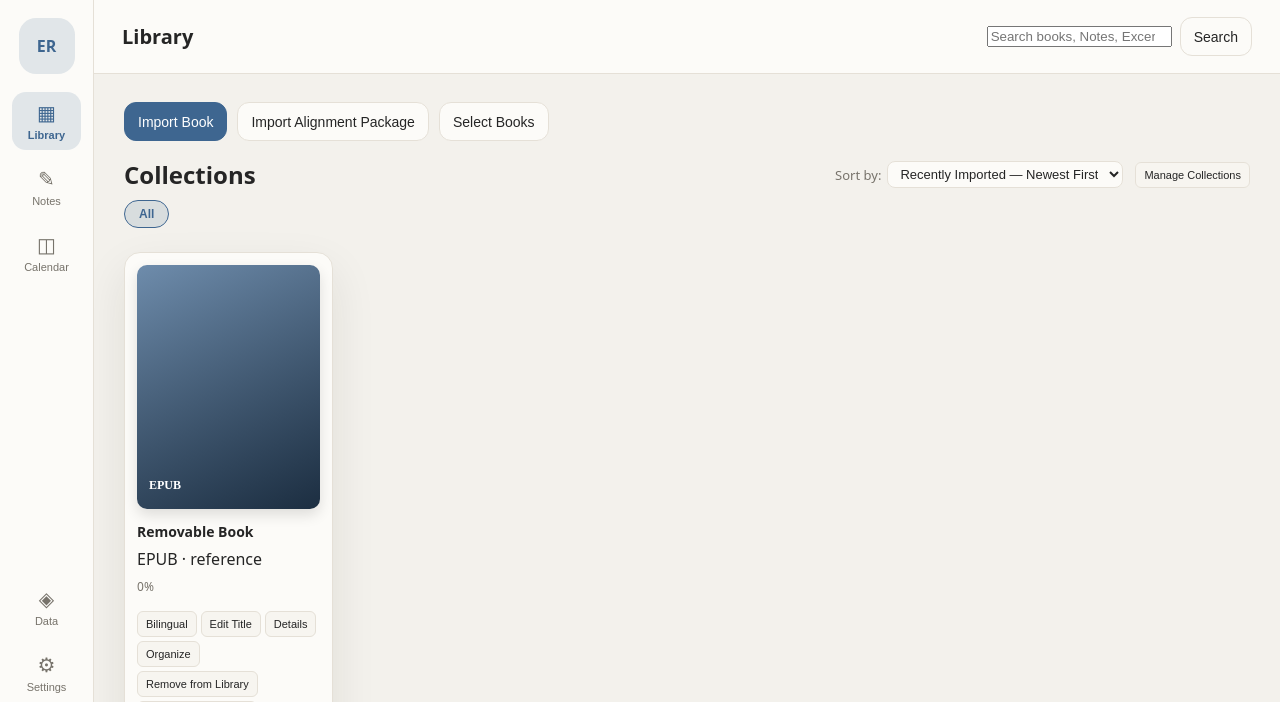
Test: Library › removes a book from the Library only after confirming via the in-app dialog
Expected: the button "Removable Book" is shown, [137,523,254,542]
Click the button "Remove from Library" at (197, 684), box [137,671,258,697]
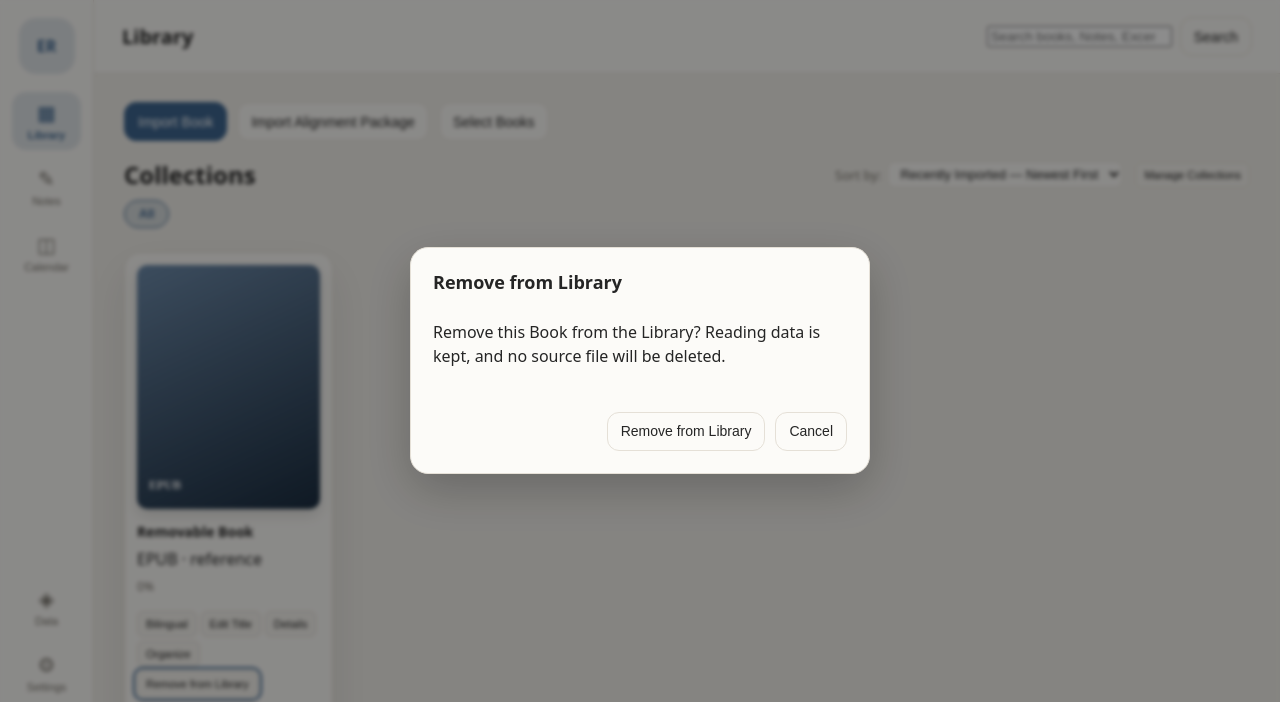
Result: the text "Reading data is kept" is shown at [433,320,820,366]
Click the button "Remove from Library" at (686, 431), box [607,412,765,450]
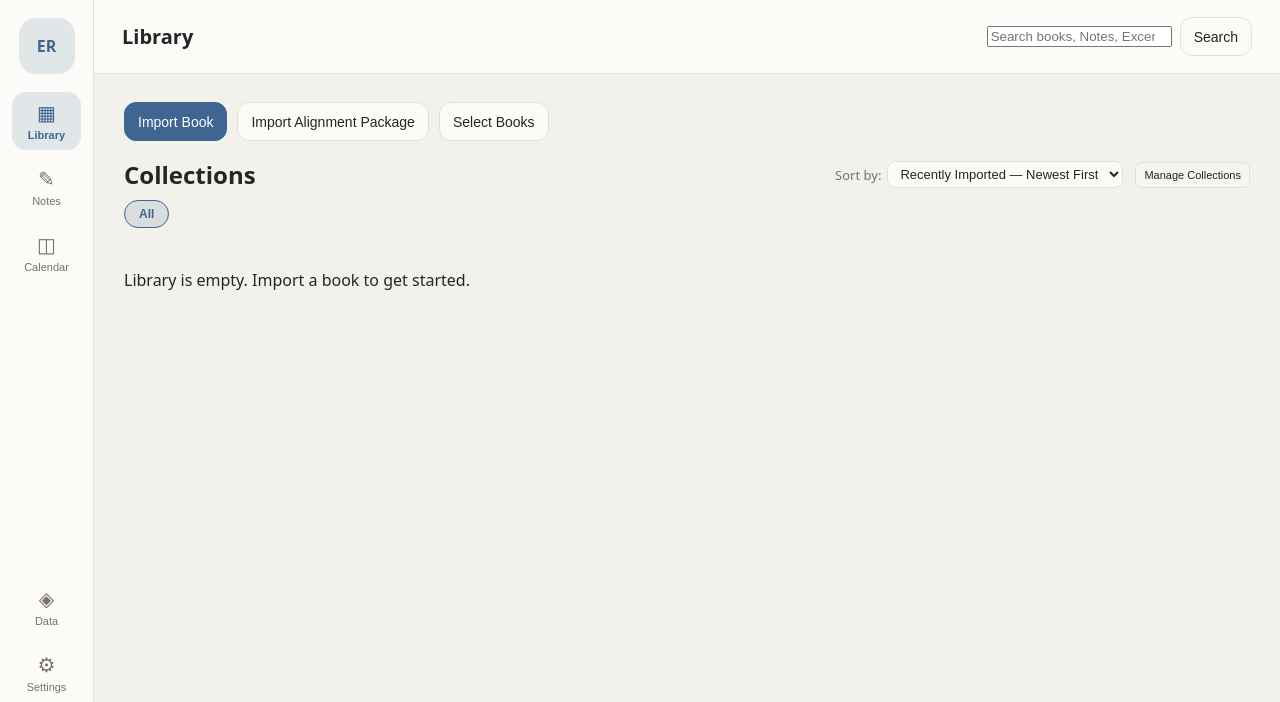
Result: the text "Library is empty. Import a book to get started." is shown at [124,269,470,291]
